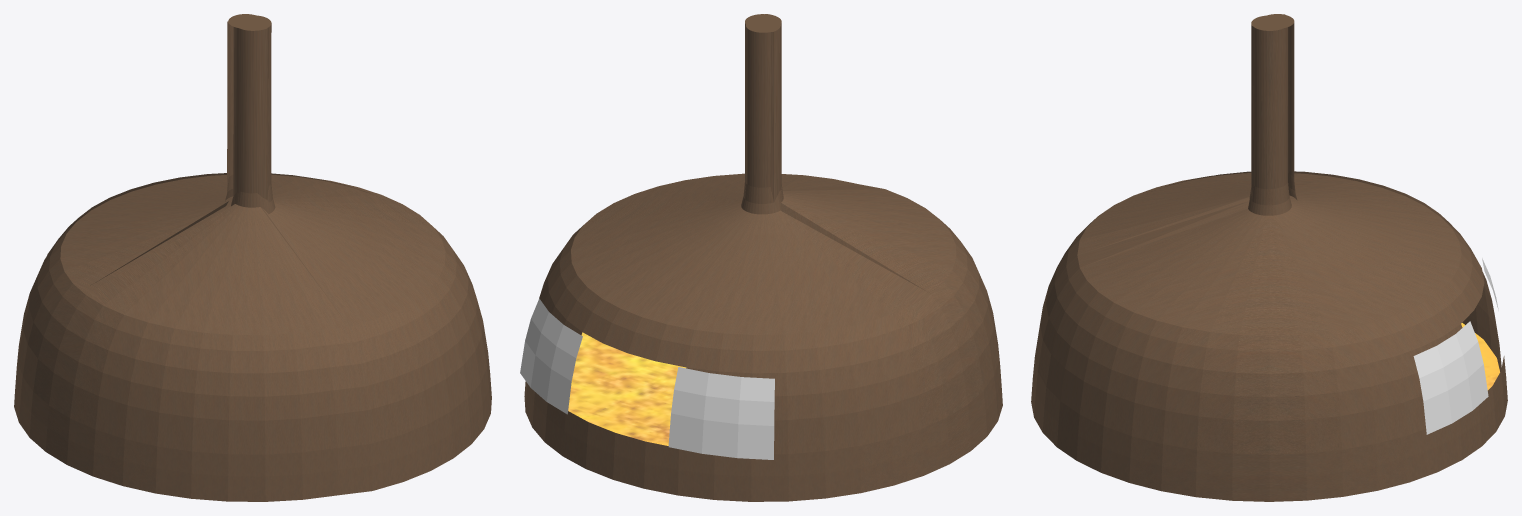
3 renders of one model, left to right at view 1: azimuth 30°, elevation 25°; view 2: azimuth 150°, elevation 25°; view 3: azimuth 270°, elevation 25°, orthographic.
Visible parts, largest first — view 1: topf, topf.001; view 2: topf, topf.002, Circle, topf.003; view 3: topf, topf.003, topf.001, Circle.
Boxes of the visible parts, bbox=[...] form: topf: bbox=[14, 15, 491, 501]; topf.001: bbox=[46, 14, 379, 285]; topf: bbox=[524, 14, 1002, 501]; topf.002: bbox=[668, 367, 774, 459]; Circle: bbox=[568, 332, 686, 445]; topf.003: bbox=[520, 298, 582, 414]; topf: bbox=[1031, 15, 1507, 501]; topf.003: bbox=[1413, 321, 1488, 434]; topf.001: bbox=[1165, 14, 1501, 371]; Circle: bbox=[1461, 323, 1499, 390].
Size of what is drawn, in the model's own units: 7.83 by 6.87 by 7.83.
